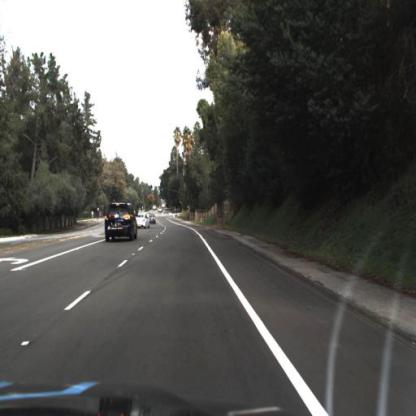car: (104, 201, 139, 245), (134, 213, 154, 230)
